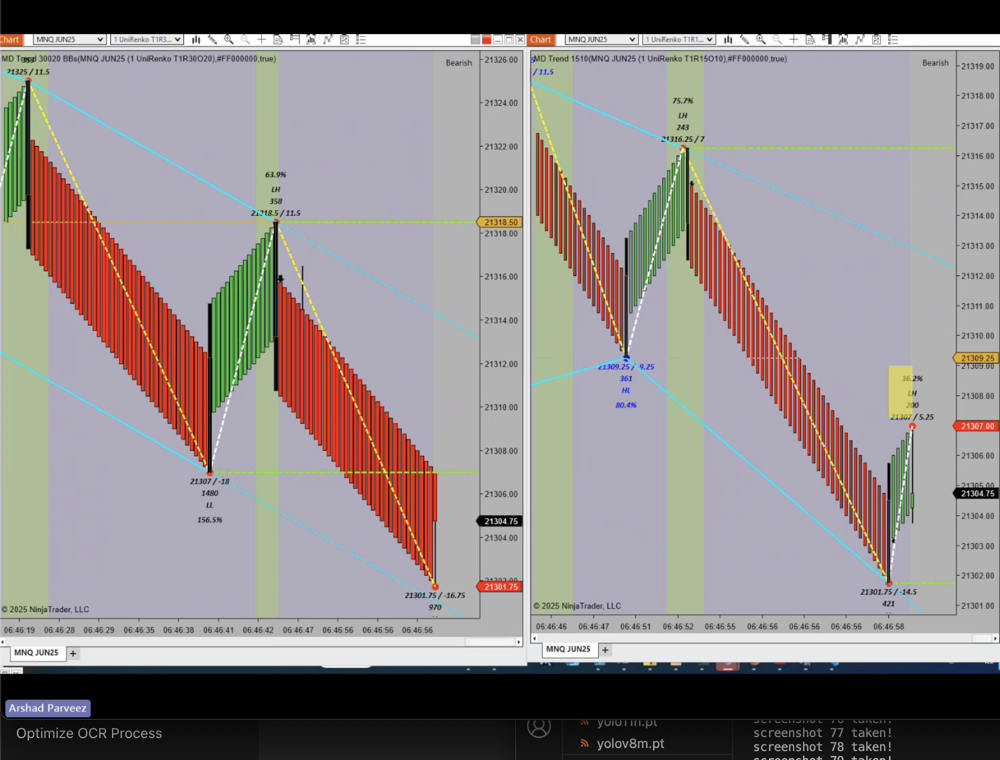HL: (615, 380, 639, 402)
LH: (902, 384, 930, 404), (266, 180, 291, 199), (675, 107, 694, 124)
LL: (197, 496, 221, 513)
